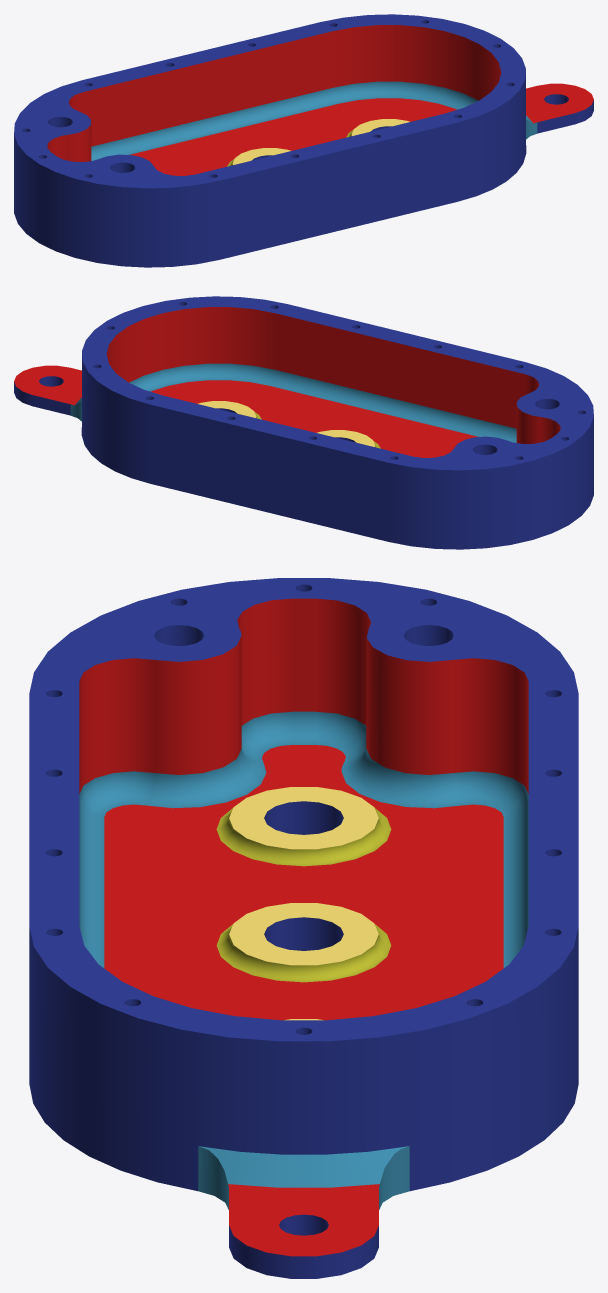
The model's file is pieza1.gltf.
3 renders of one model, top to bottom at view 1: azimuth 30°, elevation 25°; view 2: azimuth 150°, elevation 25°; view 3: azimuth 270°, elevation 25°, orthographic. The views are drawn at different scales.
Visible parts, largest first — view 1: ETS_2020_5_pieza; view 2: ETS_2020_5_pieza; view 3: ETS_2020_5_pieza.
Boxes of the visible parts, box(x1,y1,x2,y2) form: ETS_2020_5_pieza: box(14, 14, 593, 267); ETS_2020_5_pieza: box(14, 296, 593, 549); ETS_2020_5_pieza: box(29, 578, 578, 1278).
Size of the model in its own units: 2.57 by 0.35 by 1.1.
